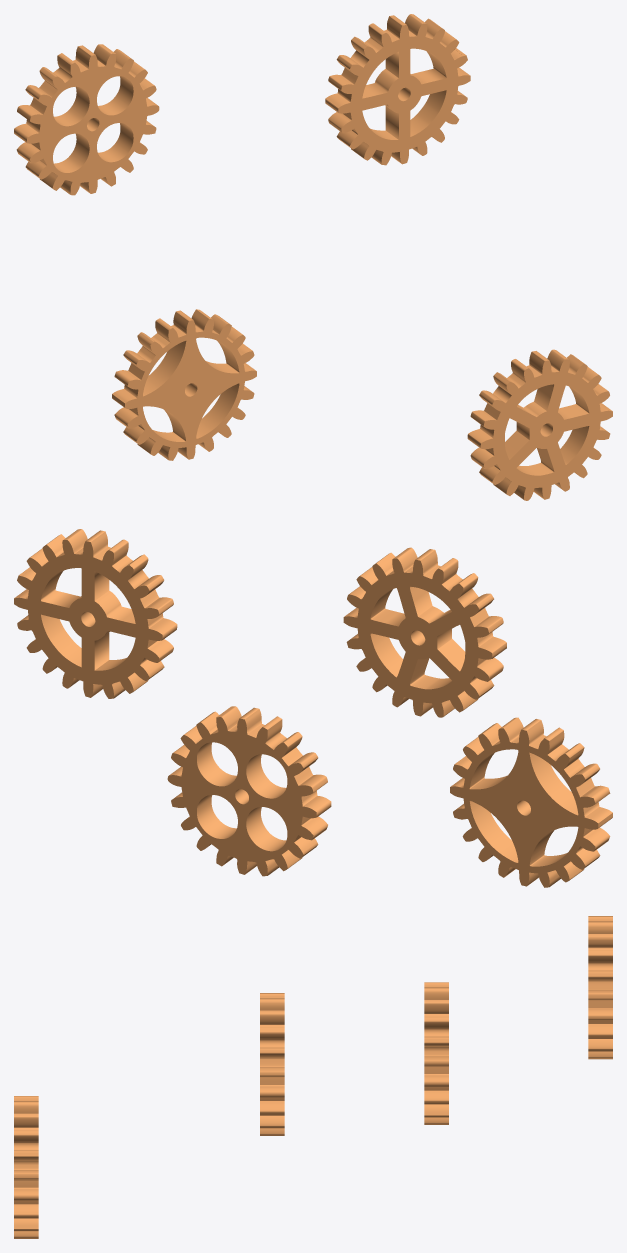
The model's file is gear3d.glb.
The picture shows the model from 3 angles, top to bottom: view 1: azimuth 30°, elevation 25°; view 2: azimuth 150°, elevation 25°; view 3: azimuth 270°, elevation 25°; orthographic projection. The views are drawn at different scales.
Visible parts, largest first — view 1: gear01, gear02, gear03, gear04; view 2: gear01, gear03, gear02, gear04; view 3: gear04, gear01, gear02, gear03.
Part boxes in pixels (x1=…): gear01: x1=467, y1=349, x2=612, y2=500; gear02: x1=325, y1=14, x2=470, y2=165; gear03: x1=112, y1=309, x2=256, y2=460; gear04: x1=14, y1=44, x2=159, y2=195; gear01: x1=343, y1=547, x2=506, y2=717; gear03: x1=450, y1=717, x2=612, y2=887; gear02: x1=14, y1=529, x2=177, y2=698; gear04: x1=167, y1=706, x2=331, y2=876; gear04: x1=588, y1=916, x2=612, y2=1059; gear01: x1=14, y1=1096, x2=38, y2=1238; gear02: x1=424, y1=982, x2=448, y2=1124; gear03: x1=260, y1=993, x2=284, y2=1135.
Bounding box in the file's own units: 5.73 × 3.76 × 7.3.
